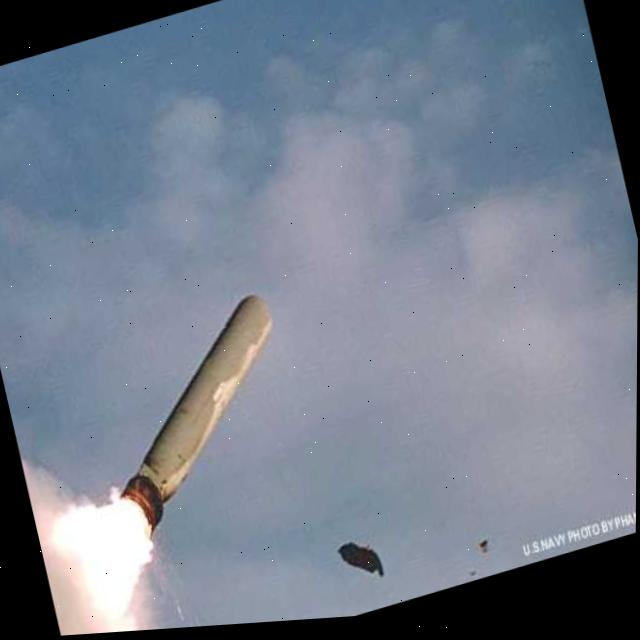missile: (83, 288, 316, 546)
